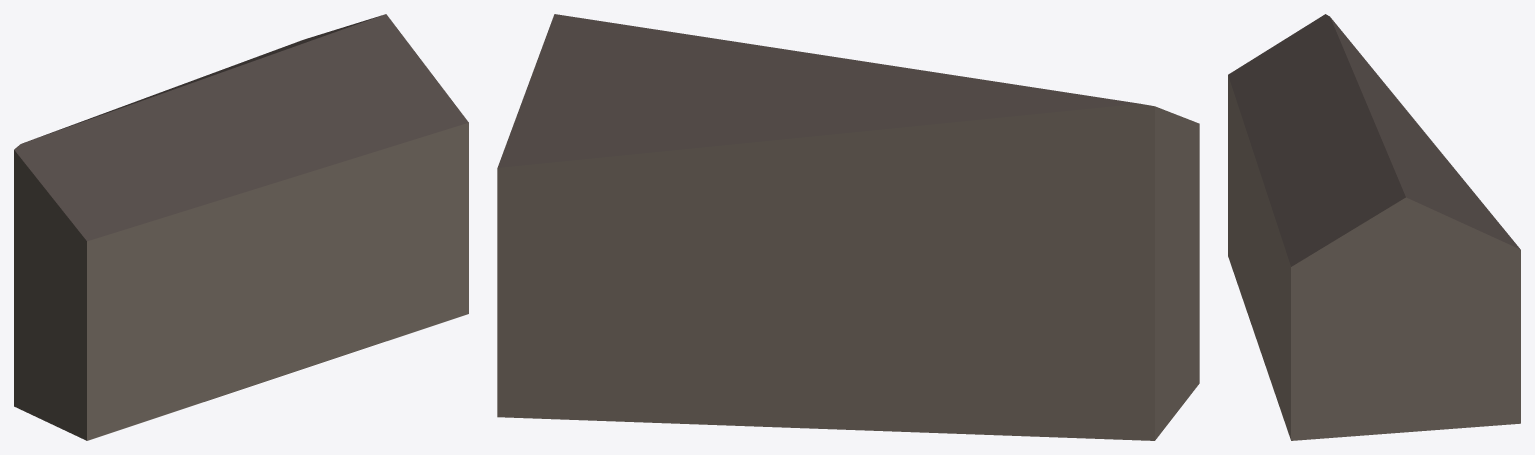
3 renders of one model, left to right at view 1: azimuth 30°, elevation 25°; view 2: azimuth 150°, elevation 25°; view 3: azimuth 270°, elevation 25°, orthographic. The views are drawn at different scales.
Parts seen in each view (by area): view 1: HP-w1376988709; view 2: HP-w1376988709; view 3: HP-w1376988709.
Part boxes in pixels (x1,y1,x2,y2): HP-w1376988709: (14,14,468,440); HP-w1376988709: (497,14,1199,440); HP-w1376988709: (1228,14,1520,440).
Size of the model in its own units: 14.31 by 8.11 by 9.16.
